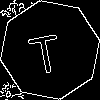T: (25, 25, 64, 75)
